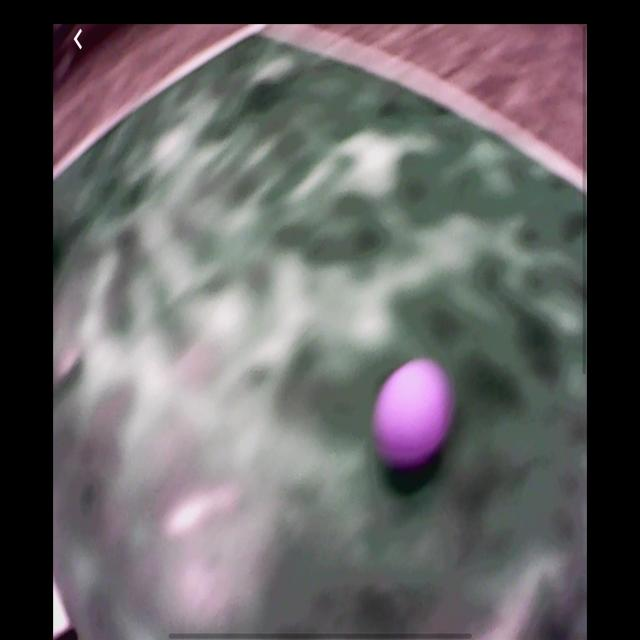ball: (372, 357, 455, 471)
